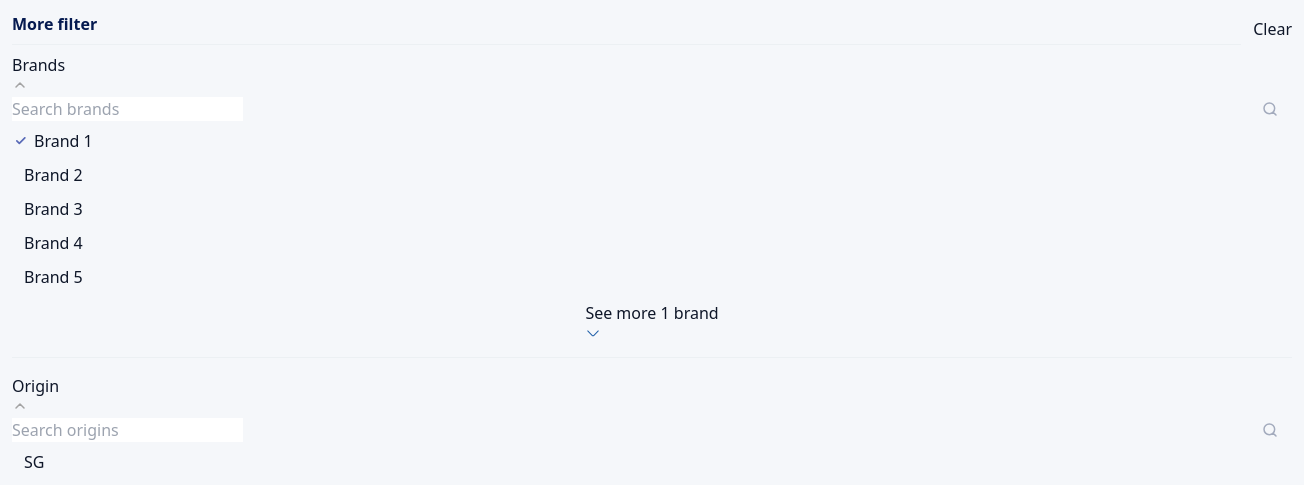
Scenario: CatalogFilters brands › collapses brands independently and preserves selections when reopened
Click the button "Brands": (39, 73) 12,53 -> 65,93
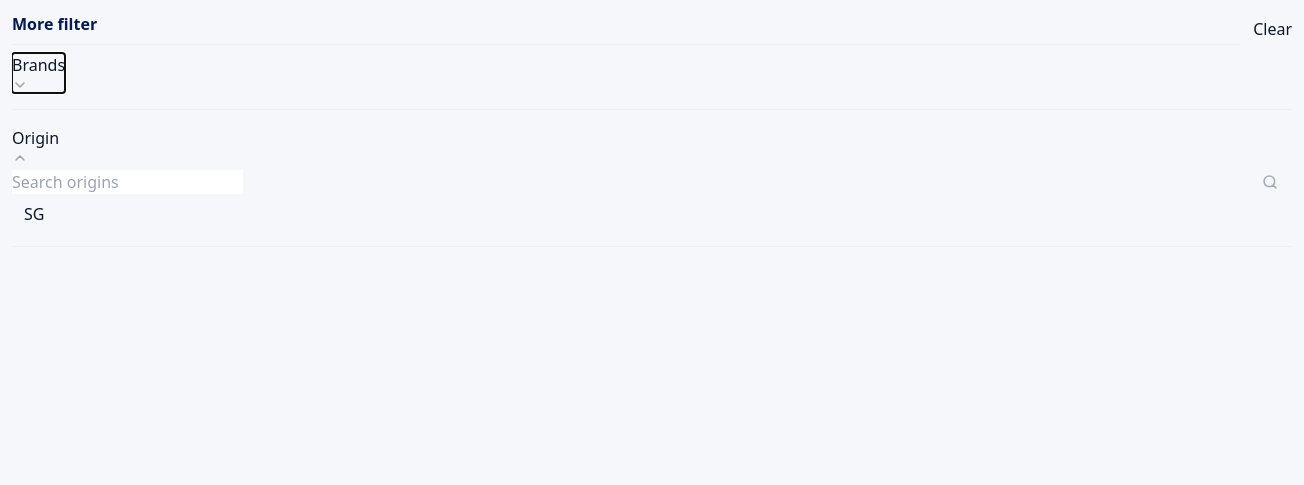
Check: the button "SG" is shown, box 24,202 -> 44,226
Check: the button "Brands" is collapsed
Click the button "Brands": (39, 73) 12,53 -> 65,93
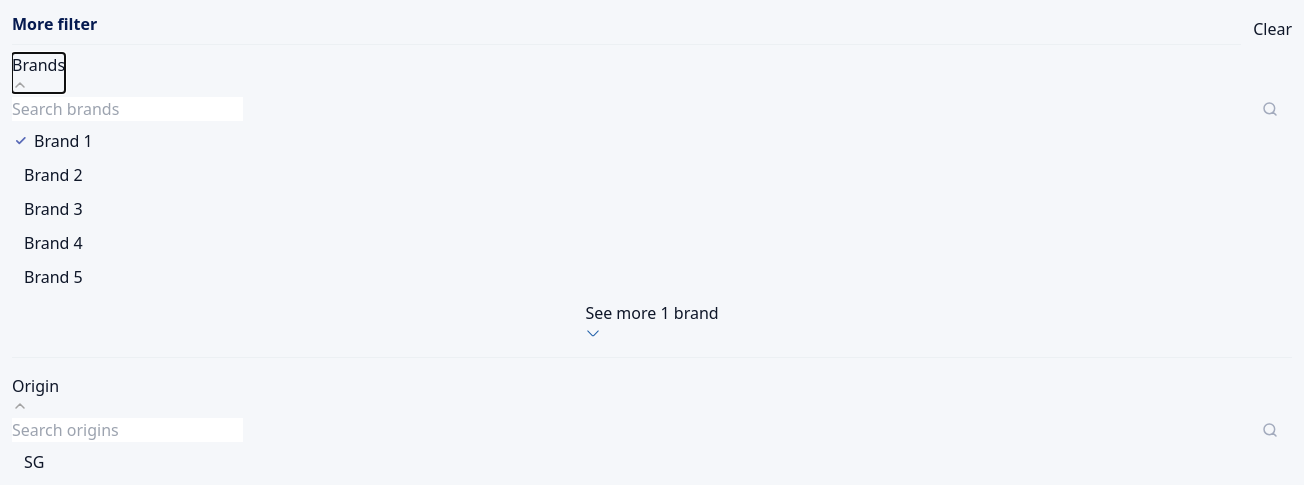
Check: the button "Brands" is expanded, box 12,53 -> 65,93
